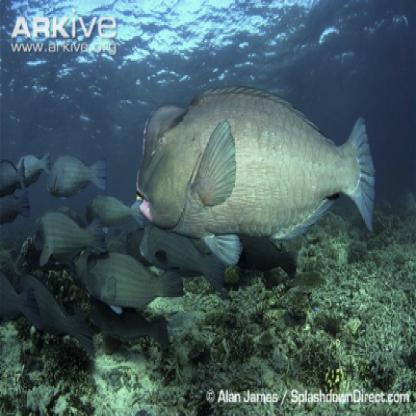parrot: (135, 78, 377, 265), (135, 214, 232, 301), (87, 253, 184, 325), (25, 211, 105, 265), (45, 144, 105, 205)
